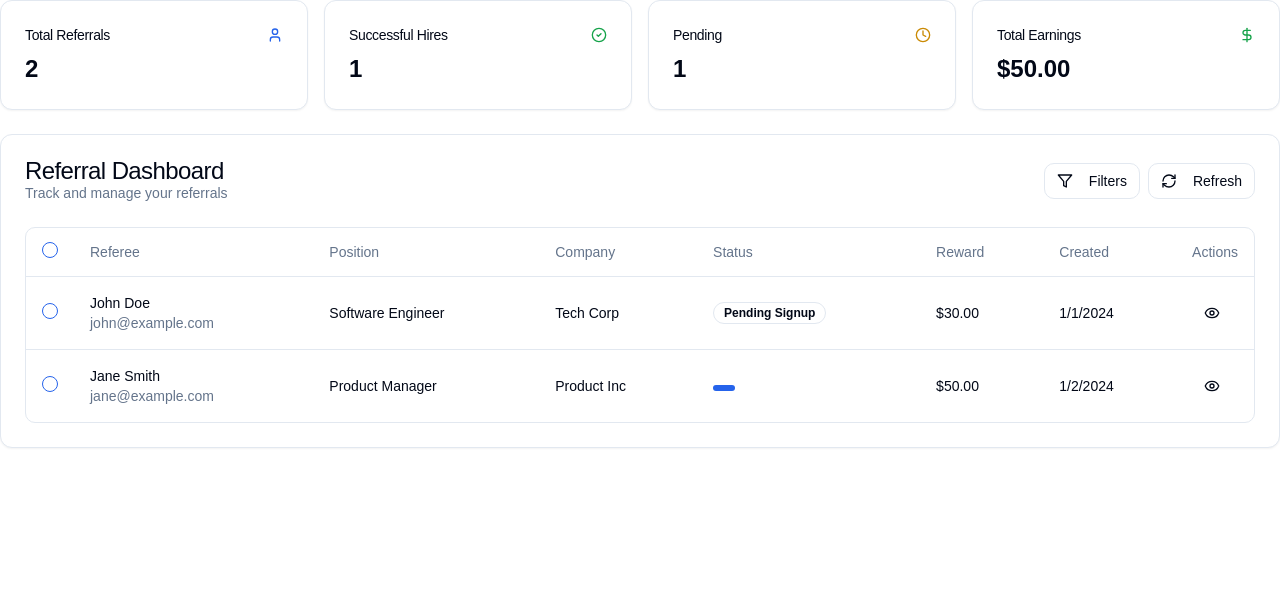
Scenario: ReferralDashboard › handles status filtering
The image size is (1280, 591).
Expected: the text "John Doe" is shown, [90,294,150,310]
Note: Open filters
Click the button "Filters".
click(1092, 181)  # box [1044,163,1140,199]
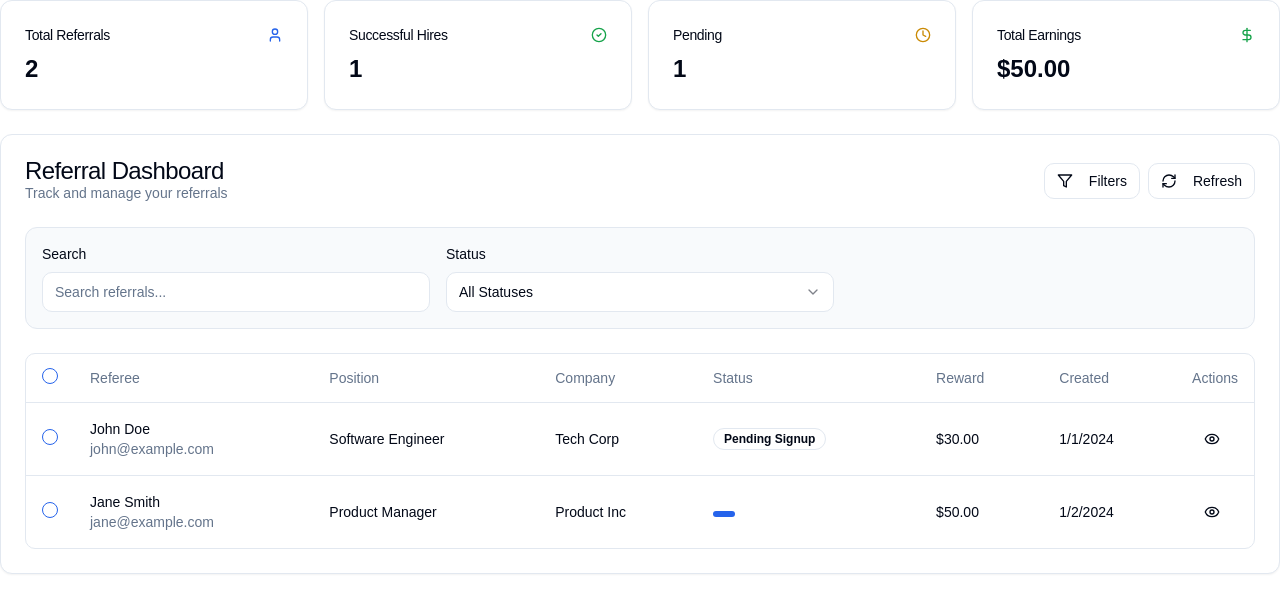
Now the dropdown is shown, box [446,272,834,312]
